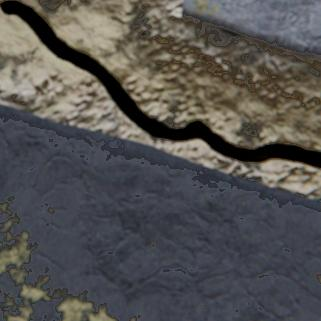brick: (0, 103, 320, 320), (181, 0, 320, 59)
crack: (0, 0, 320, 169)
